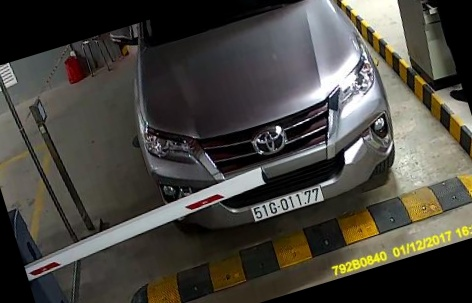plate: (236, 177, 328, 228)
